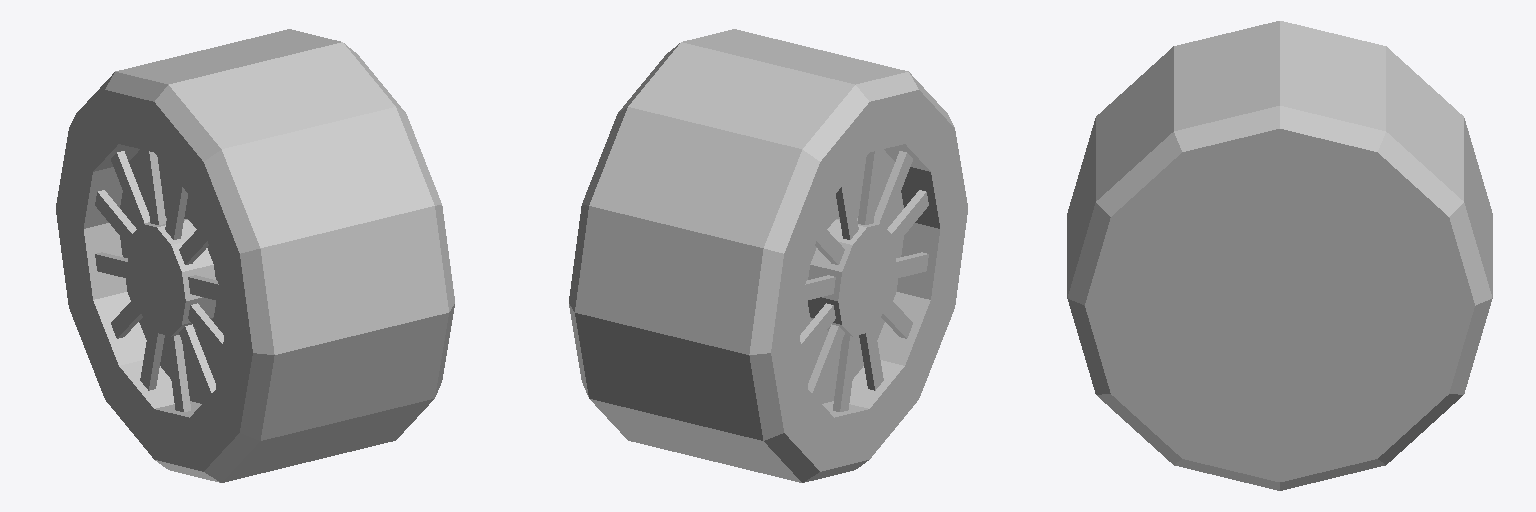
File: right.obj
3 renders of one model, left to right at view 1: azimuth 30°, elevation 25°; view 2: azimuth 150°, elevation 25°; view 3: azimuth 270°, elevation 25°, orthographic.
Visible parts, largest first — view 1: Wheels.001, Wheels; view 2: Wheels, Wheels.001; view 3: Wheels, Wheels.001.
Boxes of the visible parts, x1,y1,x2,y2 form: Wheels.001: [56, 29, 454, 482]; Wheels: [95, 43, 454, 417]; Wheels: [569, 43, 939, 482]; Wheels.001: [628, 29, 967, 471]; Wheels: [1067, 46, 1492, 490]; Wheels.001: [1067, 21, 1385, 305].
Bounding box in the file's own units: 0.7818 × 1.42 × 1.42.